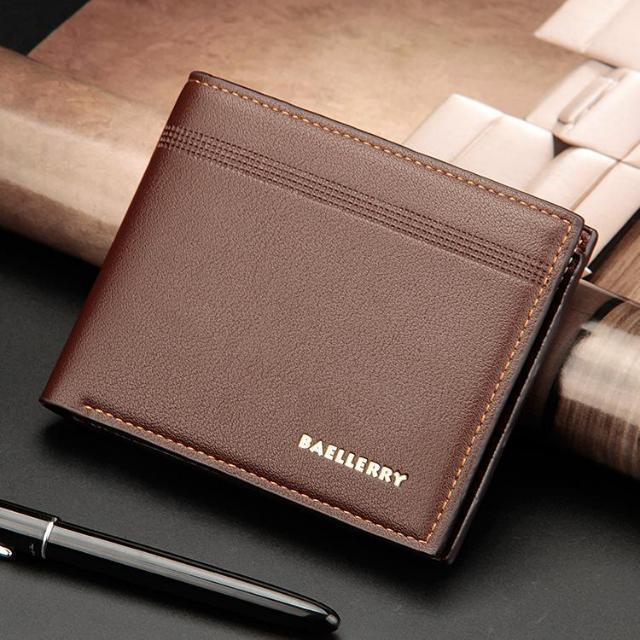wallet: (37, 67, 597, 575)
